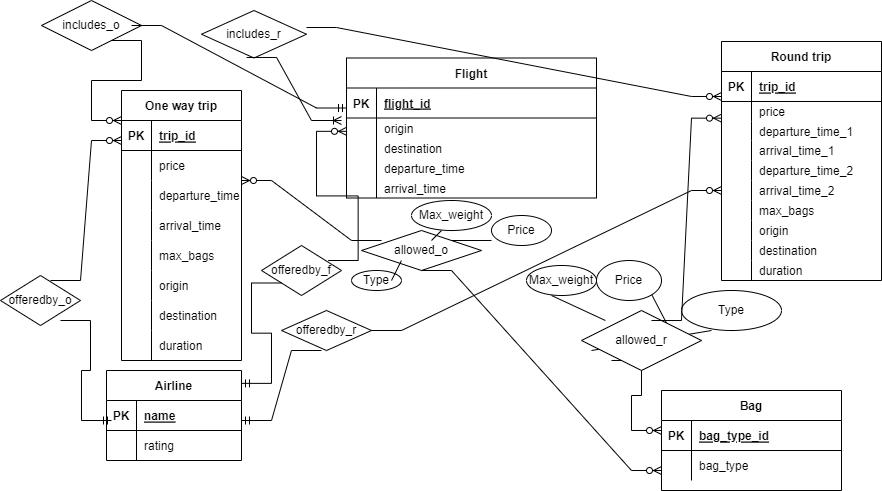attribute: (681, 289, 781, 331), (596, 259, 662, 300), (410, 200, 493, 231), (524, 265, 598, 297), (491, 214, 552, 247), (349, 269, 403, 291)
entity: (720, 42, 882, 282), (345, 57, 598, 200), (659, 389, 842, 491), (105, 370, 242, 462)
relationship: (120, 89, 242, 362), (580, 311, 703, 370), (201, 10, 307, 58), (43, 1, 140, 52), (362, 229, 481, 270), (1, 276, 82, 326), (280, 310, 373, 352), (264, 245, 343, 293)
